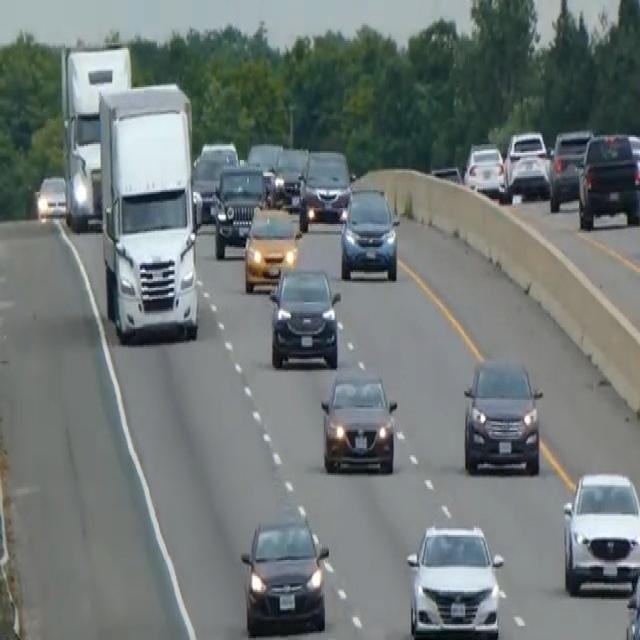car: (405, 521, 504, 638), (239, 512, 329, 635), (462, 352, 543, 476), (561, 468, 639, 596), (320, 362, 398, 474), (268, 261, 341, 370), (577, 130, 639, 229), (339, 183, 400, 281), (211, 162, 267, 258), (243, 201, 301, 291), (298, 146, 352, 228), (191, 139, 238, 222), (548, 126, 593, 212), (503, 128, 550, 199), (463, 139, 505, 197), (272, 144, 308, 208), (35, 172, 67, 220), (246, 140, 282, 174), (199, 137, 238, 165), (431, 162, 463, 185)
lorry: (96, 78, 202, 343)
